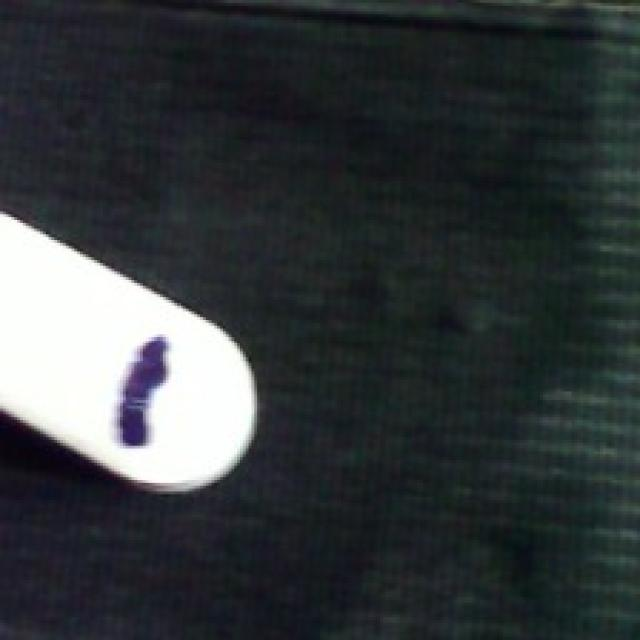defected: (0, 202, 266, 500)
